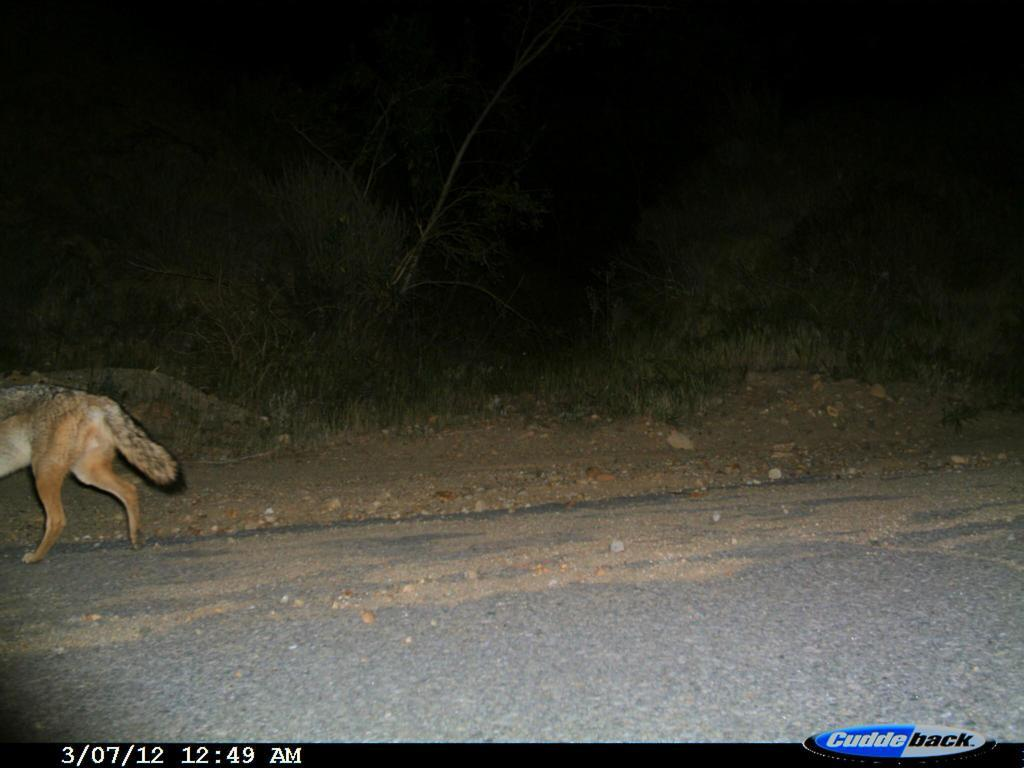coyote: (2, 368, 222, 587)
